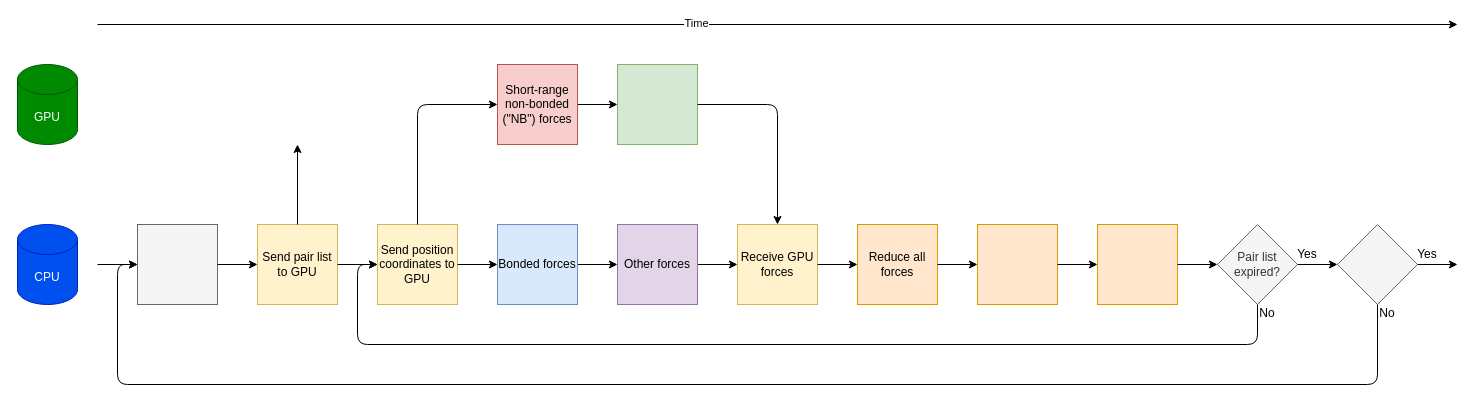
The diagram is 1483 pixels wide and 410 high, and some of its shapes have lost their labels. Each missing label, with the centre of its shape:
Constraints: point 1137,264
Done?: point 1377,264
Long-range non-bonded ("PME") forces: point 657,104
Pair search: point 177,264
Update: point 1017,264
